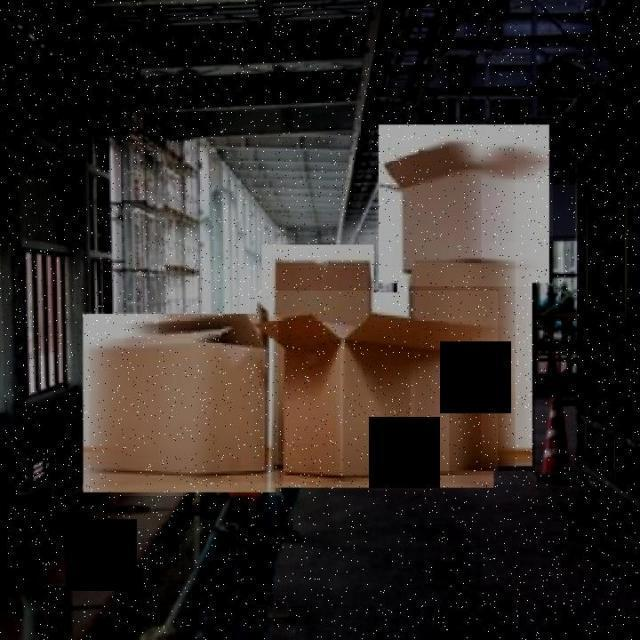box: (254, 290, 498, 490), (82, 312, 278, 496), (396, 255, 536, 471), (376, 122, 553, 286), (260, 244, 377, 324)
